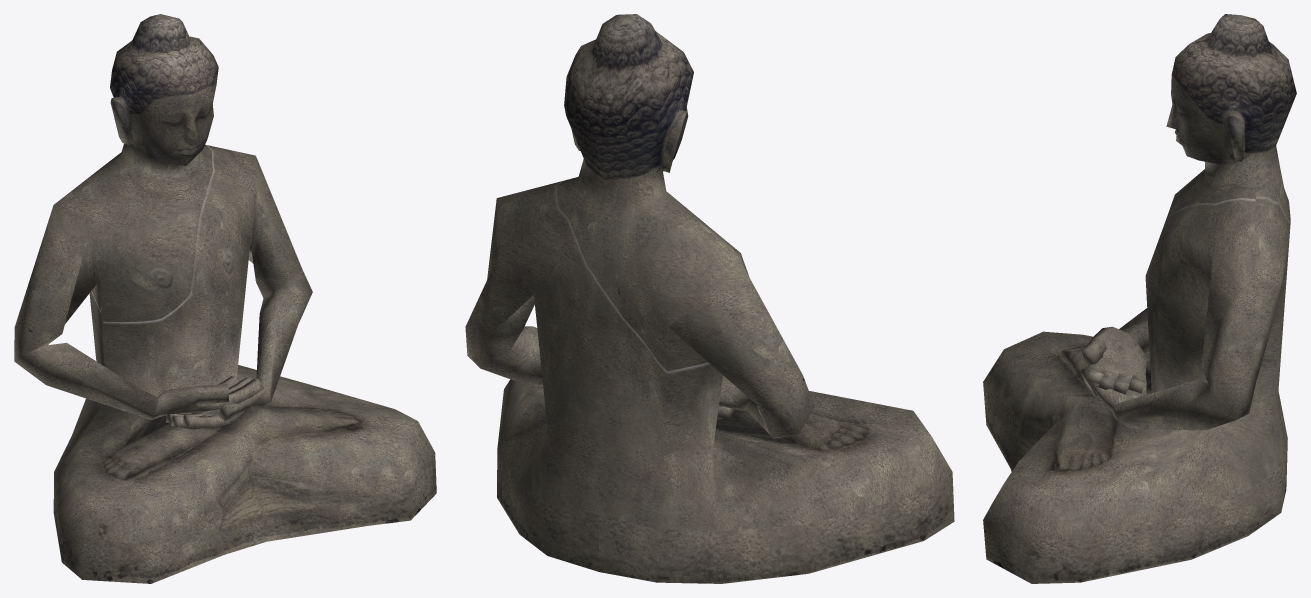
Rendered from Patung_Barat.FBX.
3 renders of one model, left to right at view 1: azimuth 30°, elevation 25°; view 2: azimuth 150°, elevation 25°; view 3: azimuth 270°, elevation 25°, orthographic. The views are drawn at different scales.
Parts seen in each view (by area): view 1: Patung_Barat; view 2: Patung_Barat; view 3: Patung_Barat.
Boxes of the visible parts, box(x1,y1,x2,y2) form: Patung_Barat: box(14, 14, 436, 583); Patung_Barat: box(465, 14, 954, 583); Patung_Barat: box(983, 14, 1296, 583).
Bounding box in the file's own units: 0.7908 × 0.9594 × 0.572.
